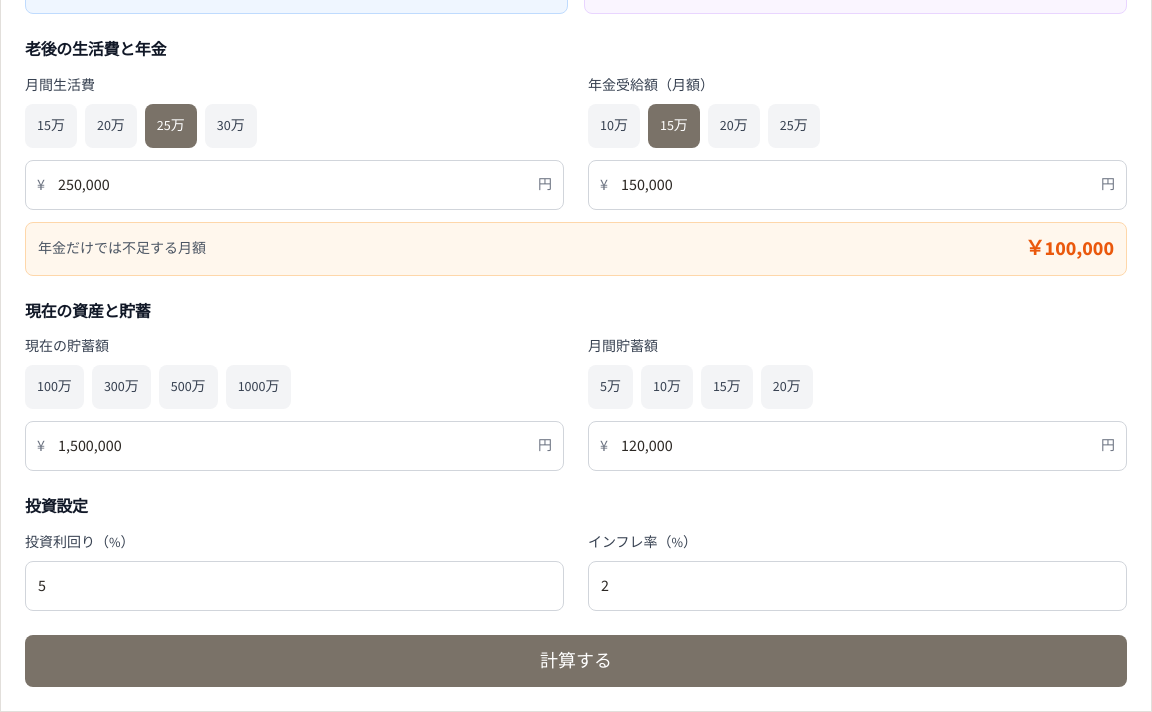
Scenario: RetirementCalculator › 結果表示 › 老後資金計算結果セクションが表示される
(page scrolled)
What coordinates should you click on to do the following:
click the button "計算する"
I would click on:
 (576, 661)
Its box is [25,635,1127,687].
(page scrolled)
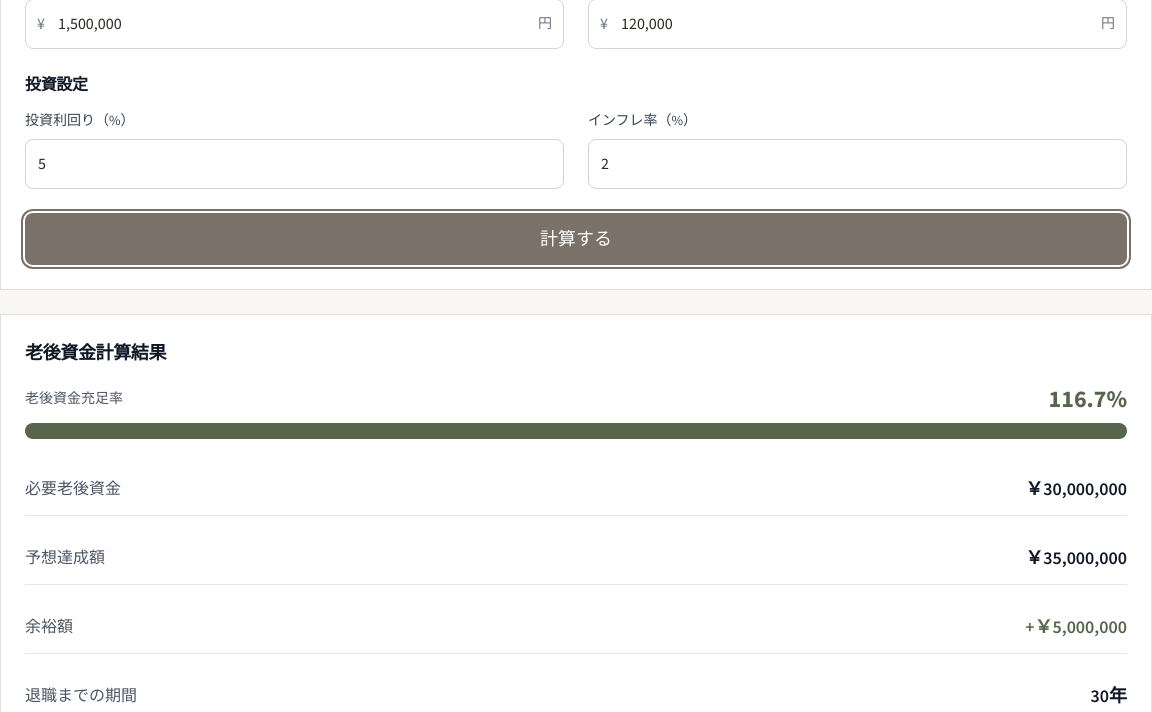
Expected: the heading "老後資金計算結果" is shown, [25,342,166,364]
